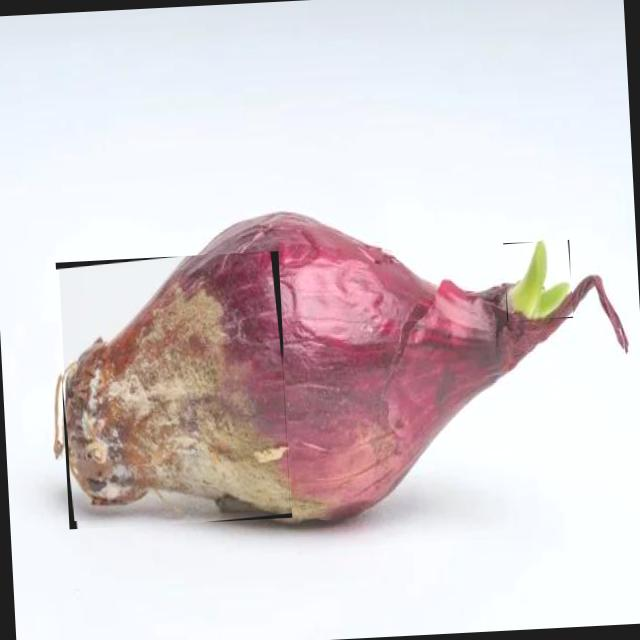rotten: (65, 256, 290, 510)
sprouting: (508, 242, 572, 320)
